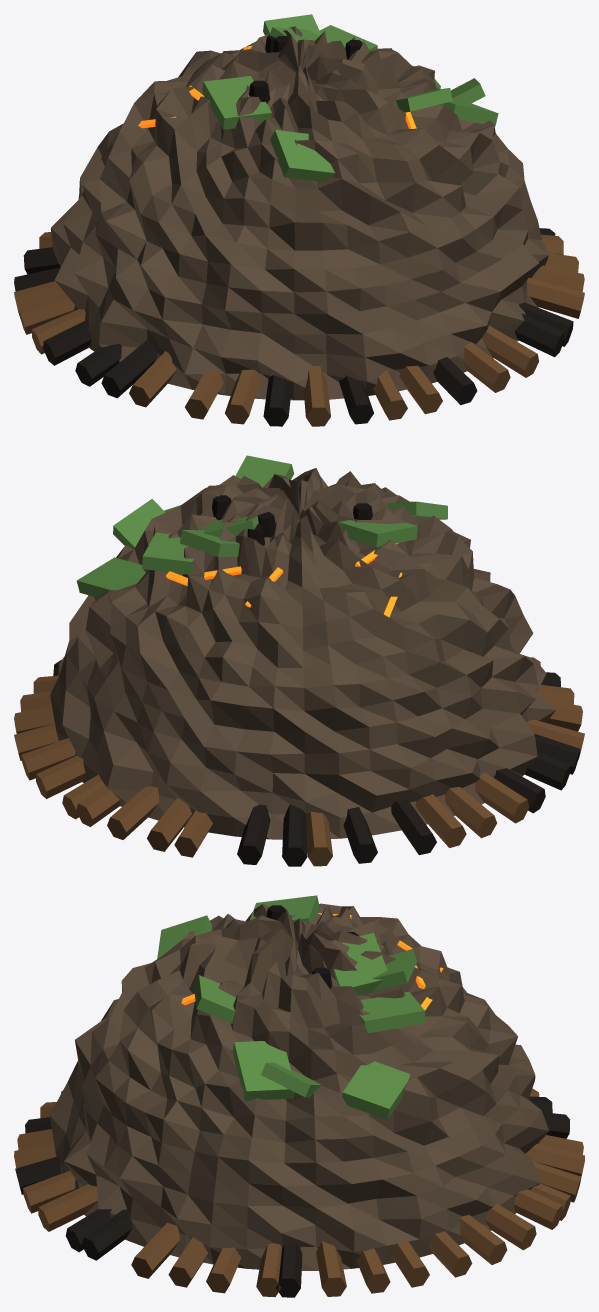
File: charcoal-clamp-a.glb
3 views of the same model, one above another, from view 1: azimuth 30°, elevation 25°; view 2: azimuth 150°, elevation 25°; view 3: azimuth 270°, elevation 25° (orthographic).
Parts seen in each view (by area): view 1: Body_Second, Body_Wood, Body_Charred, Body_Plant, Body_Dark; view 2: Body_Second, Body_Wood, Body_Plant, Body_Charred, Body_Dark, Body_Glow; view 3: Body_Second, Body_Wood, Body_Plant, Body_Charred.
Boxes of the visible parts, left/top/right/bottom form: Body_Second: left=51, top=26, right=548, bottom=400; Body_Wood: left=14, top=232, right=584, bottom=426; Body_Charred: left=14, top=228, right=573, bottom=426; Body_Plant: left=202, top=14, right=498, bottom=182; Body_Dark: left=249, top=35, right=362, bottom=103; Body_Second: left=50, top=468, right=555, bottom=839; Body_Wood: left=14, top=657, right=584, bottom=866; Body_Plant: left=77, top=455, right=447, bottom=597; Body_Charred: left=53, top=660, right=580, bottom=866; Body_Dark: left=212, top=495, right=372, bottom=545; Body_Glow: left=166, top=543, right=402, bottom=617; Body_Second: left=49, top=903, right=548, bottom=1270; Body_Wood: left=14, top=1088, right=584, bottom=1296; Body_Plant: left=157, top=895, right=425, bottom=1119; Body_Charred: left=15, top=1091, right=569, bottom=1297.
Size of the model in its own units: 4 by 2 by 4.
